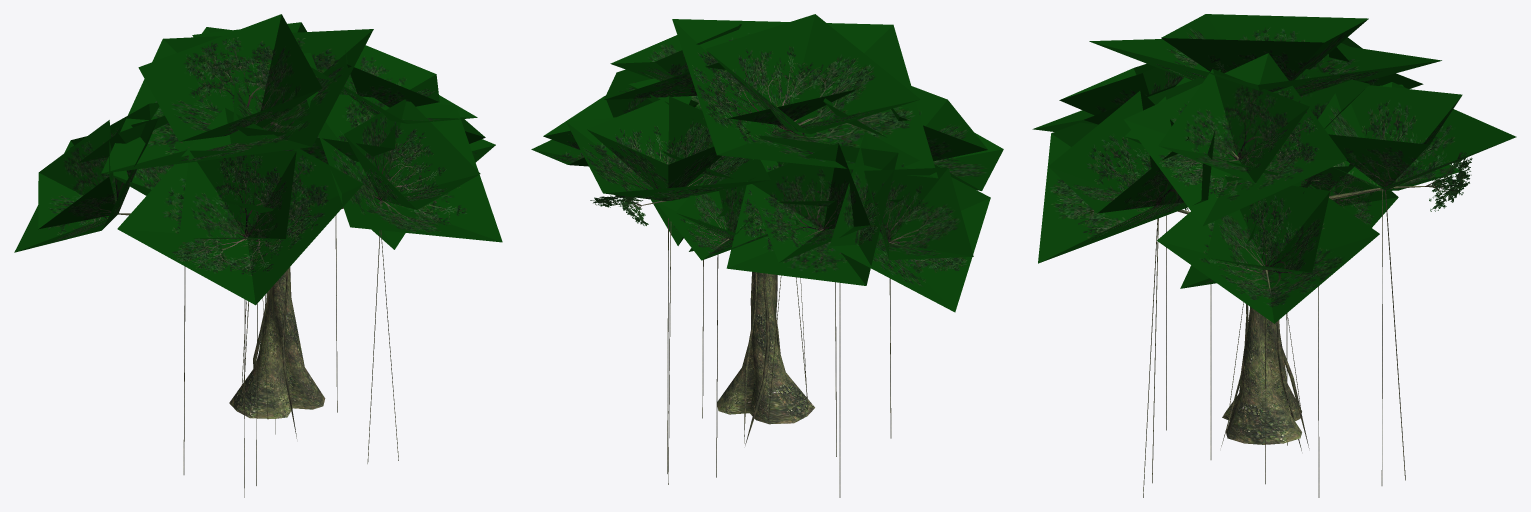
The model's file is decd_treecanopy_a2_l0.fbx.
3 views of the same model, side by side, from view 1: azimuth 30°, elevation 25°; view 2: azimuth 150°, elevation 25°; view 3: azimuth 270°, elevation 25° (orthographic). The views are drawn at different scales.
Visible parts, largest first — view 1: mesh_node; view 2: mesh_node; view 3: mesh_node.
Part boxes in pixels (x1,y1,x2,y2): mesh_node: (14, 14, 502, 497); mesh_node: (531, 14, 1003, 497); mesh_node: (1032, 14, 1516, 497).
Size of the model in its own units: 36.62 by 32.93 by 31.14.
